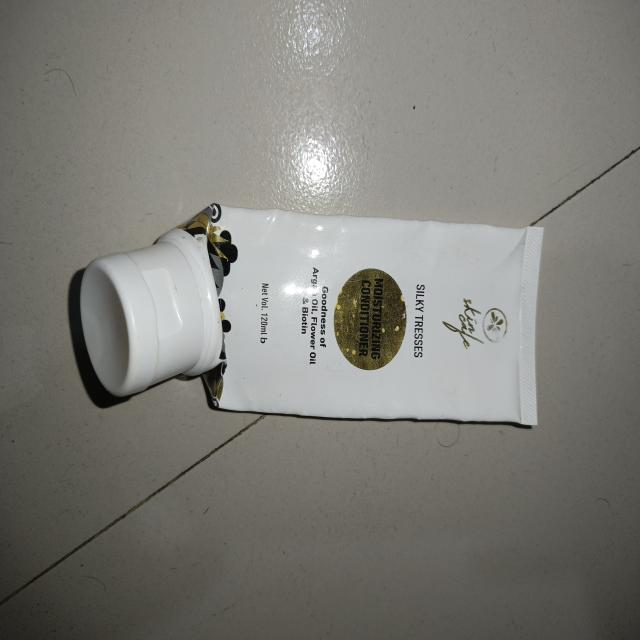Squeeze Tube: (72, 195, 549, 448)
